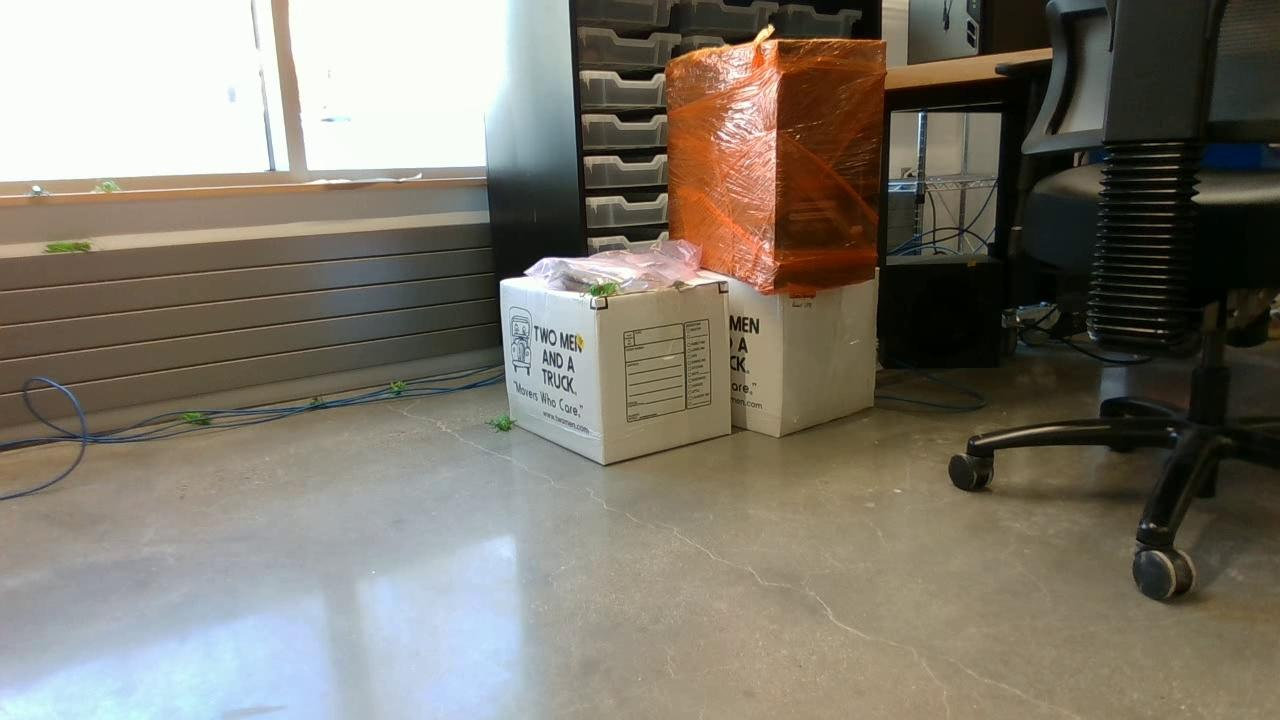grasshopper: (42, 236, 96, 258), (576, 279, 620, 301), (83, 176, 127, 196), (177, 409, 216, 430), (485, 413, 519, 434), (382, 378, 410, 395)
